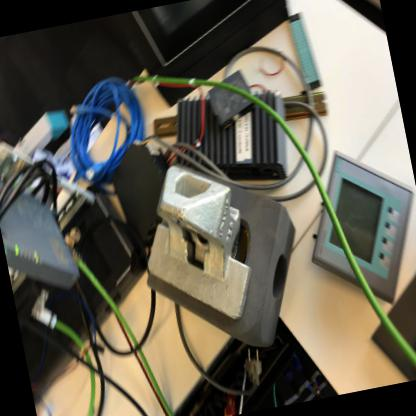CornerCasting: (222, 178, 311, 357)
Twistlock: (122, 152, 266, 338)
